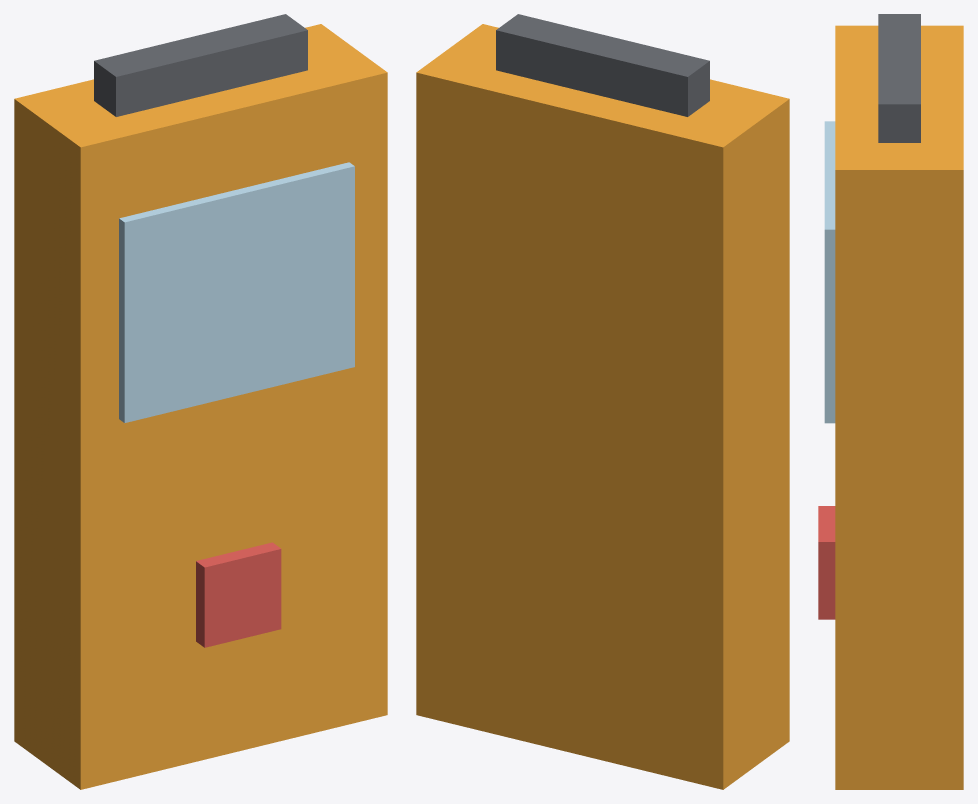
Rendered from ski-resort-and-snow-park-avalanche-beacon-a1e4b3b8__26023.glb.
3 views of the same model, side by side, from view 1: azimuth 30°, elevation 25°; view 2: azimuth 150°, elevation 25°; view 3: azimuth 270°, elevation 25° (orthographic). The views are drawn at different scales.
Visible parts, largest first — view 1: avalanche-beacon; view 2: avalanche-beacon; view 3: avalanche-beacon.
Part boxes in pixels (x1,y1,x2,y2): avalanche-beacon: [14, 14, 387, 789]; avalanche-beacon: [416, 14, 789, 789]; avalanche-beacon: [818, 14, 963, 789].
Size of the model in its own units: 0.08 by 0.17 by 0.034.
